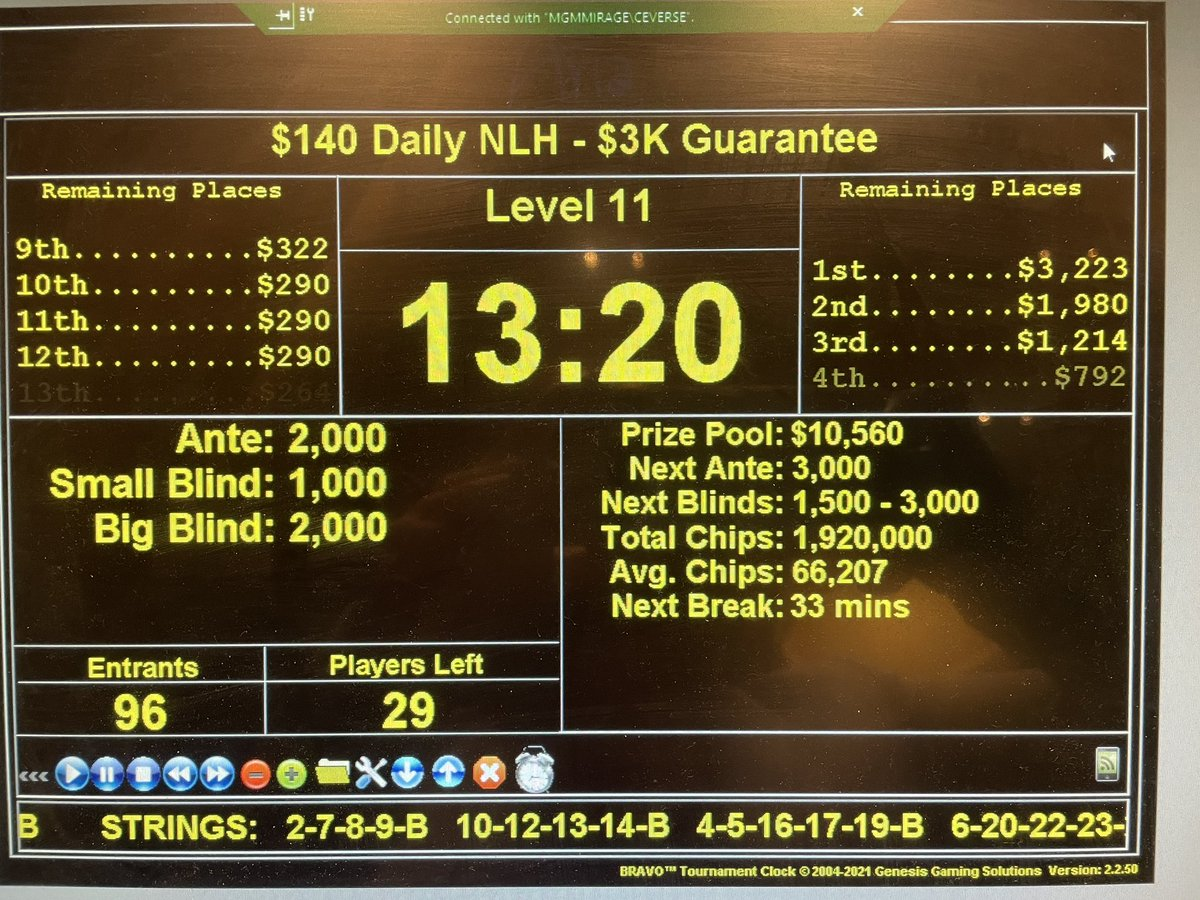PlayersLeft: (261, 633, 561, 740)
Remaining: (1, 175, 348, 420), (795, 169, 1134, 419)
TournamentClock: (1, 104, 1137, 741)
